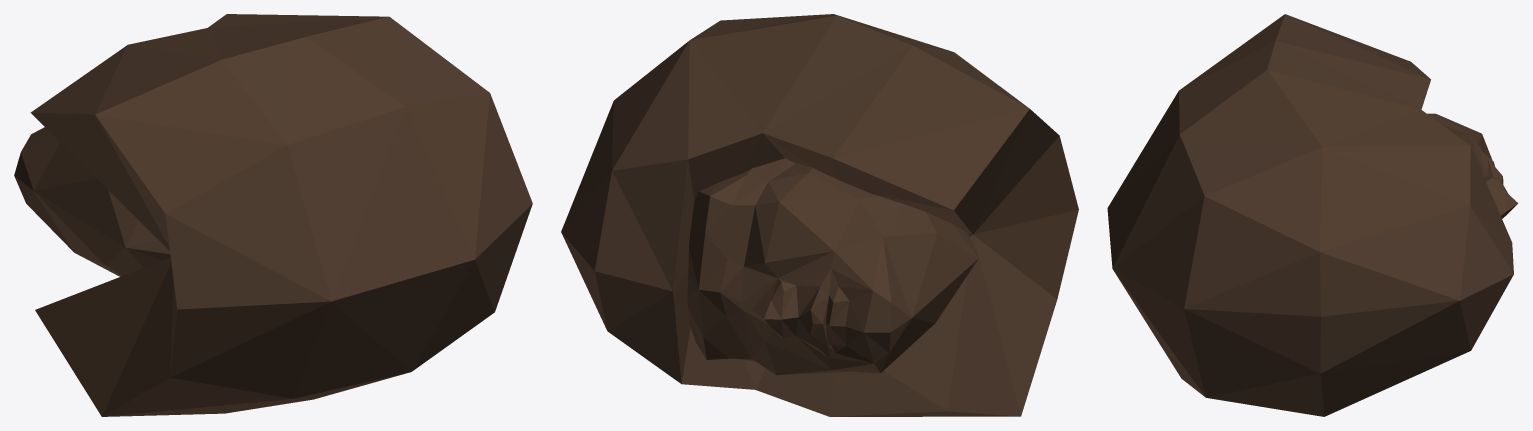
The model's file is HUM_HEAD_BABE3.OBJ.
3 renders of one model, left to right at view 1: azimuth 30°, elevation 25°; view 2: azimuth 150°, elevation 25°; view 3: azimuth 270°, elevation 25°, orthographic. The views are drawn at different scales.
Visible parts, largest first — view 1: HUM_HEAD_BABE3; view 2: HUM_HEAD_BABE3; view 3: HUM_HEAD_BABE3.
Part boxes in pixels (<box>): HUM_HEAD_BABE3: <box>14,14,532,416</box>; HUM_HEAD_BABE3: <box>561,14,1078,416</box>; HUM_HEAD_BABE3: <box>1107,14,1518,416</box>.
Size of the model in its own units: 0.2893 by 0.2512 by 0.2839.
